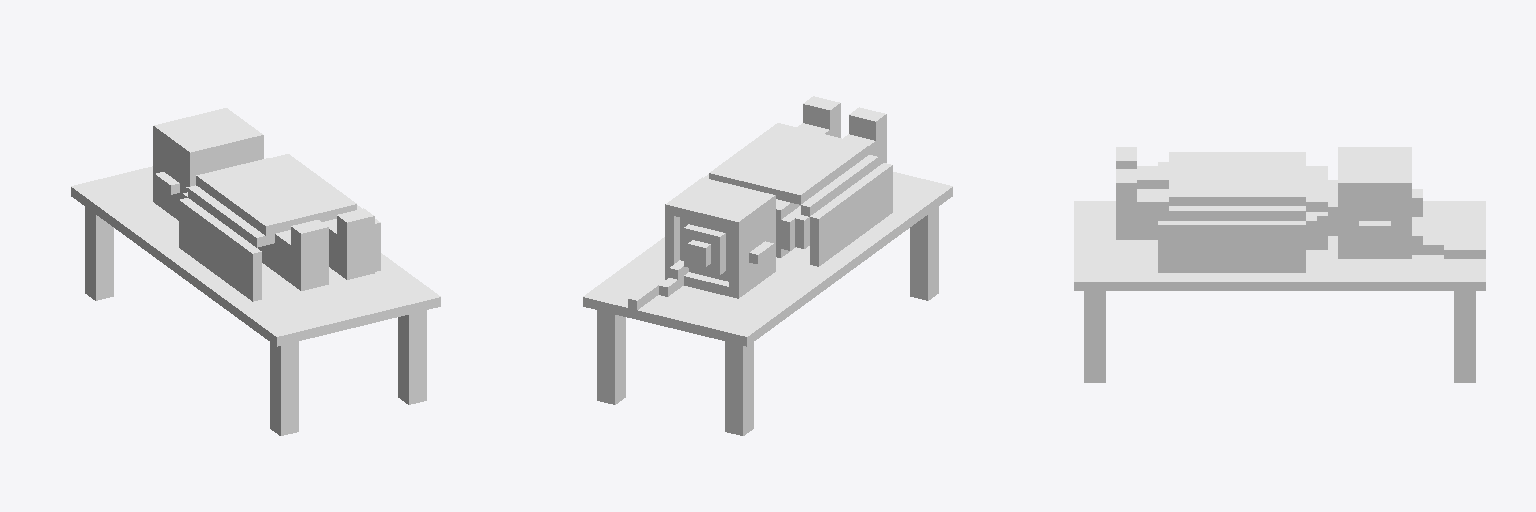
Rendered from operation-table.obj.
The picture shows the model from 3 angles: view 1: azimuth 30°, elevation 25°; view 2: azimuth 150°, elevation 25°; view 3: azimuth 270°, elevation 25°; orthographic projection.
Parts seen in each view (by area): view 1: object 1; view 2: object 1; view 3: object 1.
Boxes of the visible parts, box(x1,y1,x2,y2) form: object 1: box(71, 108, 440, 435); object 1: box(583, 96, 952, 435); object 1: box(1074, 147, 1485, 382).
Size of the model in its own units: 1.8 by 1.9 by 3.9.